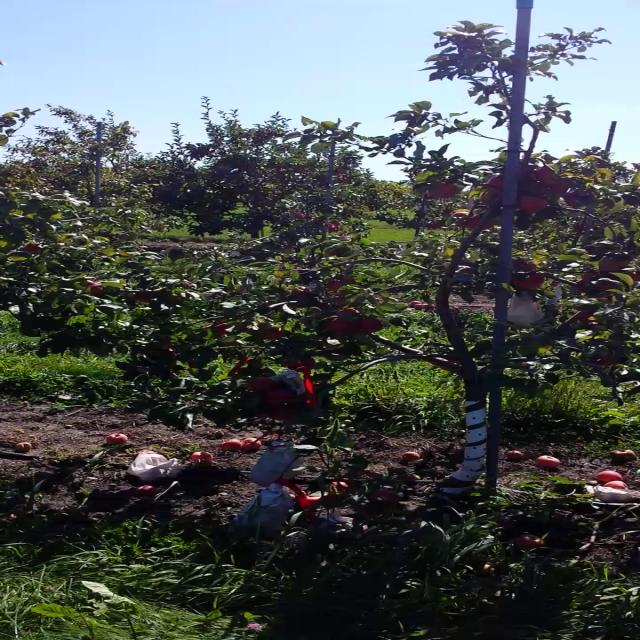apple: (596, 255, 628, 274), (267, 402, 297, 422), (562, 189, 596, 206), (285, 353, 314, 372), (323, 345, 353, 363), (141, 345, 179, 359), (519, 194, 548, 212), (511, 274, 548, 288), (538, 179, 570, 195), (448, 208, 476, 226), (326, 316, 354, 334), (427, 182, 457, 198), (355, 317, 385, 333), (260, 388, 290, 403), (468, 215, 494, 229), (210, 323, 236, 337), (249, 377, 275, 391), (532, 165, 554, 181), (478, 188, 500, 204), (596, 354, 628, 365), (287, 284, 312, 298), (327, 277, 356, 289), (512, 255, 536, 269), (598, 277, 622, 291), (578, 310, 599, 324), (266, 326, 287, 340), (332, 306, 360, 316), (486, 173, 502, 190), (130, 292, 157, 302), (19, 240, 41, 252), (576, 277, 596, 289), (90, 281, 106, 295), (188, 358, 208, 368), (329, 295, 347, 305), (165, 296, 182, 306), (629, 274, 639, 282), (84, 279, 94, 285)
